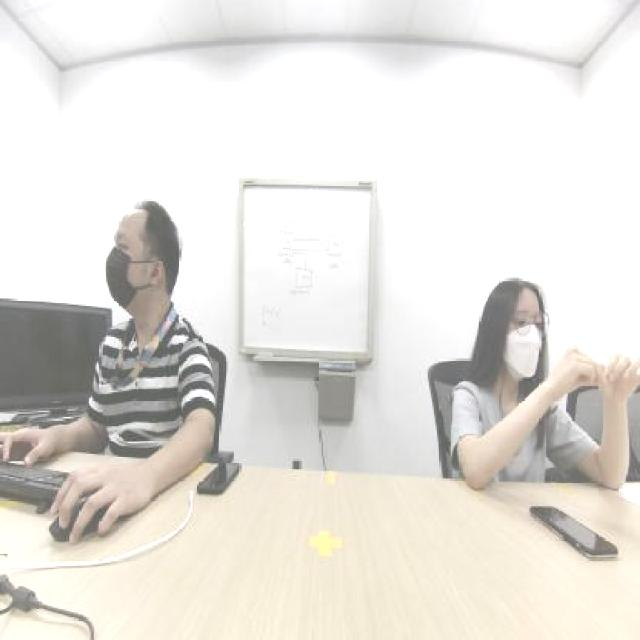Person: (84, 172, 236, 442), (452, 208, 580, 496)
